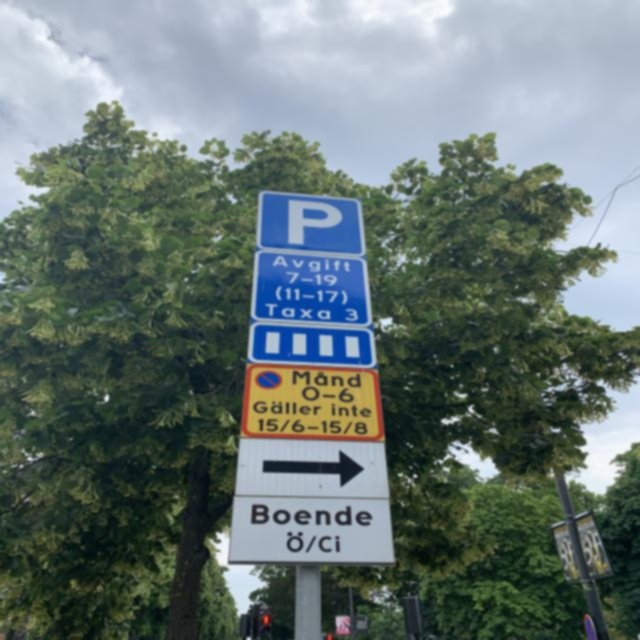P-skylt: (254, 188, 369, 260)
